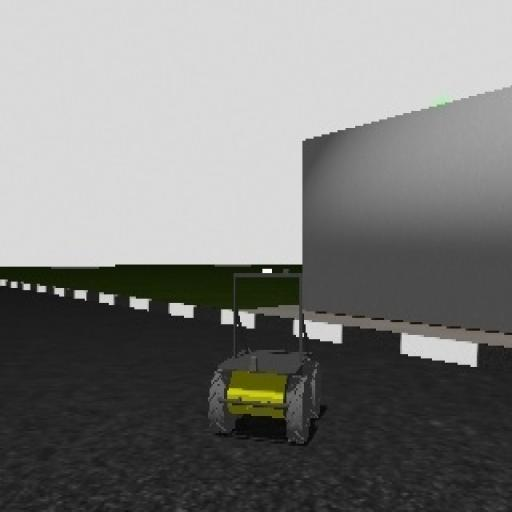huskya200: (199, 258, 319, 448)
